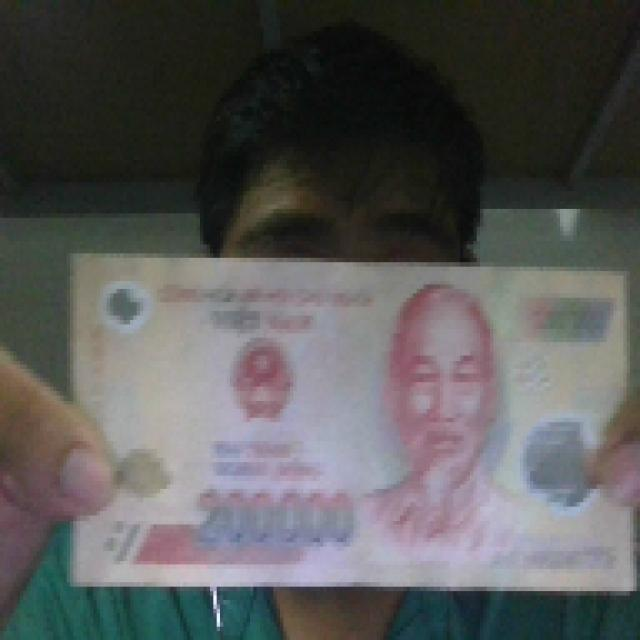200 000 VND: (63, 245, 637, 591)
